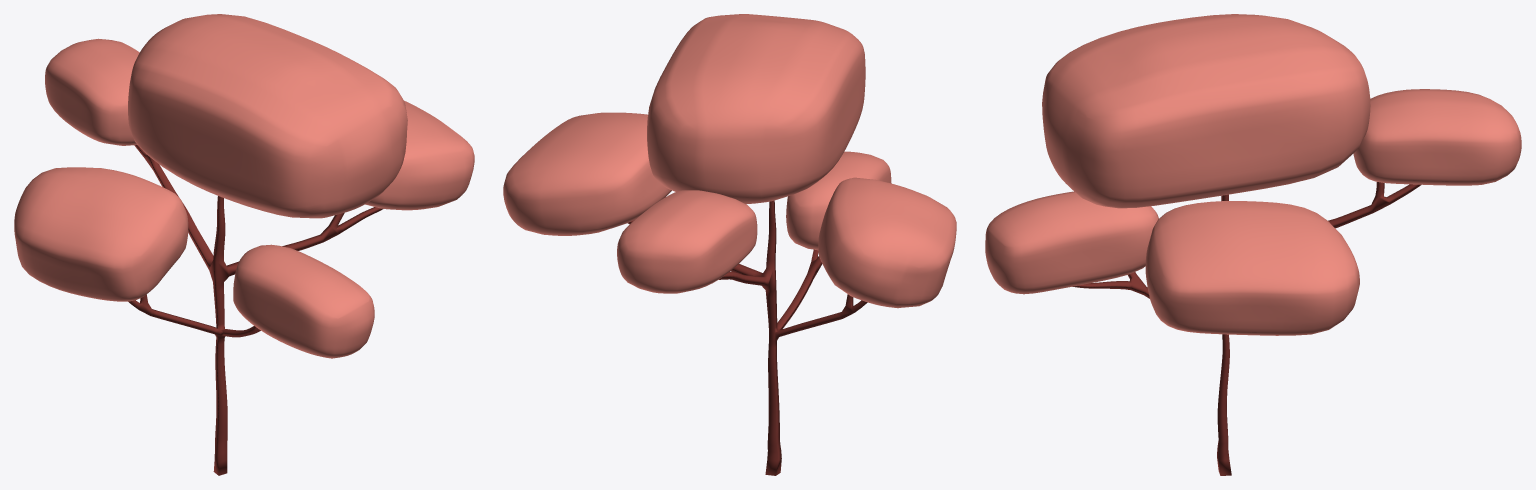
The model's file is Arbolrosado 1.fbx.
3 views of the same model, side by side, from view 1: azimuth 30°, elevation 25°; view 2: azimuth 150°, elevation 25°; view 3: azimuth 270°, elevation 25° (orthographic). The views are drawn at different scales.
Visible parts, largest first — view 1: Cube.003; view 2: Cube.003; view 3: Cube.003.
Part boxes in pixels (bbox=[...]): Cube.003: bbox=[14, 14, 474, 475]; Cube.003: bbox=[503, 14, 956, 475]; Cube.003: bbox=[985, 14, 1521, 475].
Bounding box in the file's own units: 625 × 603 × 653.
